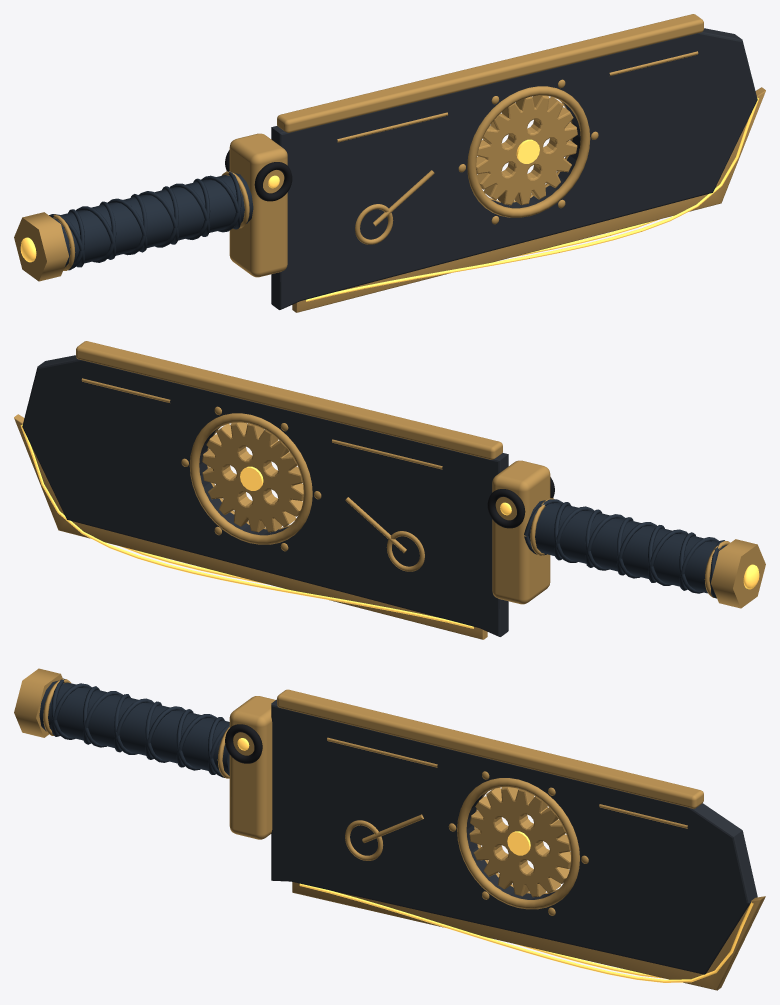
The model's file is clockwork-cleaver.glb.
The picture shows the model from 3 angles, top to bottom: view 1: azimuth 30°, elevation 25°; view 2: azimuth 150°, elevation 25°; view 3: azimuth 330°, elevation 25°; orthographic projection.
Visible parts, largest first — view 1: 06_Refract_Blade__body_Sculpt_coat, 06_Refract_Blade__body_Sculpt_metal, 06_Refract_Blade__body_Sculpt_grip, 06_Refract_Blade__saw_Sculpt_metal, 06_Refract_Blade__body_Sculpt_glow, 06_Refract_Blade__body_Sculpt_frame; view 2: 06_Refract_Blade__body_Sculpt_coat, 06_Refract_Blade__body_Sculpt_metal, 06_Refract_Blade__body_Sculpt_grip, 06_Refract_Blade__saw_Sculpt_metal, 06_Refract_Blade__body_Sculpt_glow, 06_Refract_Blade__body_Sculpt_frame; view 3: 06_Refract_Blade__body_Sculpt_coat, 06_Refract_Blade__body_Sculpt_metal, 06_Refract_Blade__body_Sculpt_grip, 06_Refract_Blade__saw_Sculpt_metal, 06_Refract_Blade__body_Sculpt_glow, 06_Refract_Blade__body_Sculpt_frame.
Part boxes in pixels (bbox=[...]): 06_Refract_Blade__body_Sculpt_coat: bbox=[271, 28, 757, 309]; 06_Refract_Blade__body_Sculpt_metal: bbox=[14, 14, 765, 312]; 06_Refract_Blade__body_Sculpt_grip: bbox=[49, 171, 253, 270]; 06_Refract_Blade__saw_Sculpt_metal: bbox=[476, 95, 577, 205]; 06_Refract_Blade__body_Sculpt_glow: bbox=[20, 97, 759, 301]; 06_Refract_Blade__body_Sculpt_frame: bbox=[225, 150, 292, 201]; 06_Refract_Blade__body_Sculpt_coat: bbox=[22, 355, 508, 636]; 06_Refract_Blade__body_Sculpt_metal: bbox=[14, 341, 765, 639]; 06_Refract_Blade__body_Sculpt_grip: bbox=[524, 499, 726, 598]; 06_Refract_Blade__saw_Sculpt_metal: bbox=[202, 422, 303, 532]; 06_Refract_Blade__body_Sculpt_glow: bbox=[20, 424, 759, 628]; 06_Refract_Blade__body_Sculpt_frame: bbox=[487, 477, 554, 528]; 06_Refract_Blade__body_Sculpt_coat: bbox=[271, 699, 757, 974]; 06_Refract_Blade__body_Sculpt_metal: bbox=[14, 668, 765, 990]; 06_Refract_Blade__body_Sculpt_grip: bbox=[39, 678, 229, 777]; 06_Refract_Blade__saw_Sculpt_metal: bbox=[469, 787, 570, 897]; 06_Refract_Blade__body_Sculpt_glow: bbox=[237, 738, 753, 982]; 06_Refract_Blade__body_Sculpt_frame: bbox=[225, 724, 262, 763].
Bounding box in the file's own units: 2.01 × 0.5207 × 0.16.
